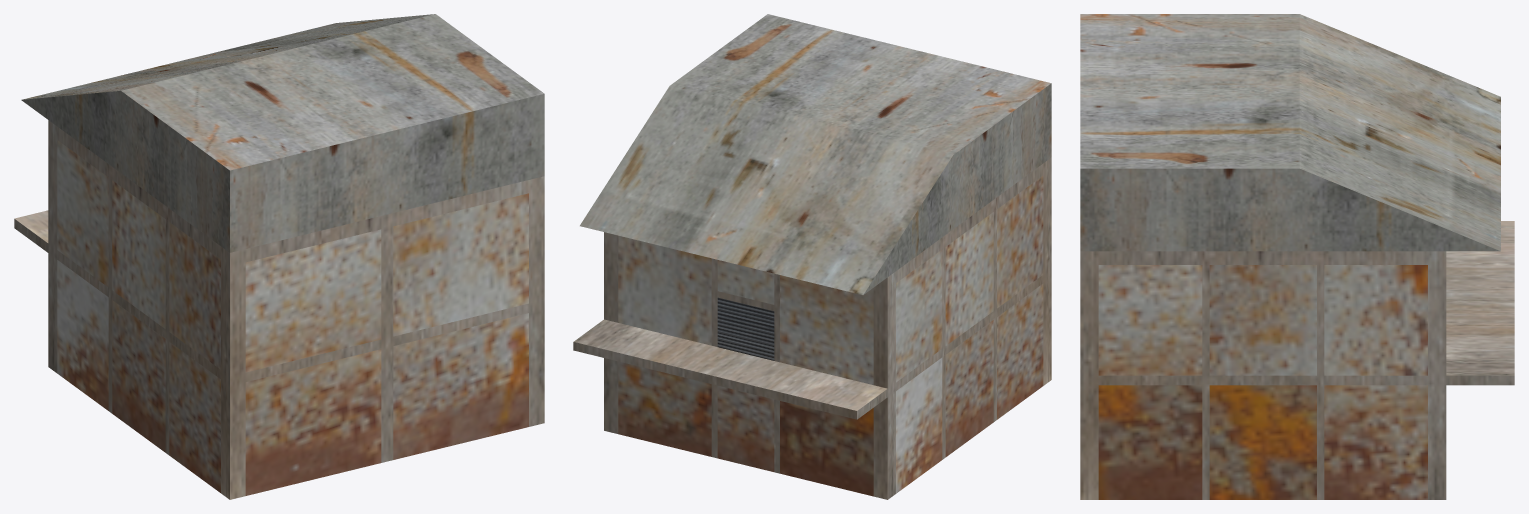
Rendered from TDB_Kiosk.fbx.
3 renders of one model, left to right at view 1: azimuth 30°, elevation 25°; view 2: azimuth 150°, elevation 25°; view 3: azimuth 270°, elevation 25°, orthographic. The views are drawn at different scales.
Parts seen in each view (by area): view 1: Kiosk; view 2: Kiosk, Kiosk Covering; view 3: Kiosk.
Boxes of the visible parts, bbox=[...] form: Kiosk: bbox=[14, 14, 544, 499]; Kiosk: bbox=[573, 14, 1051, 499]; Kiosk Covering: bbox=[717, 297, 774, 360]; Kiosk: bbox=[1080, 14, 1514, 499].
Size of the model in its own units: 2 by 2.37 by 2.
